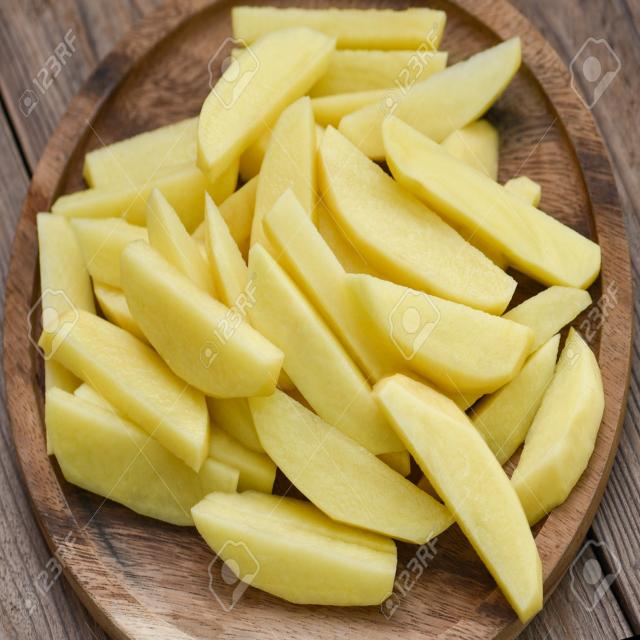papa: (22, 2, 618, 625)
